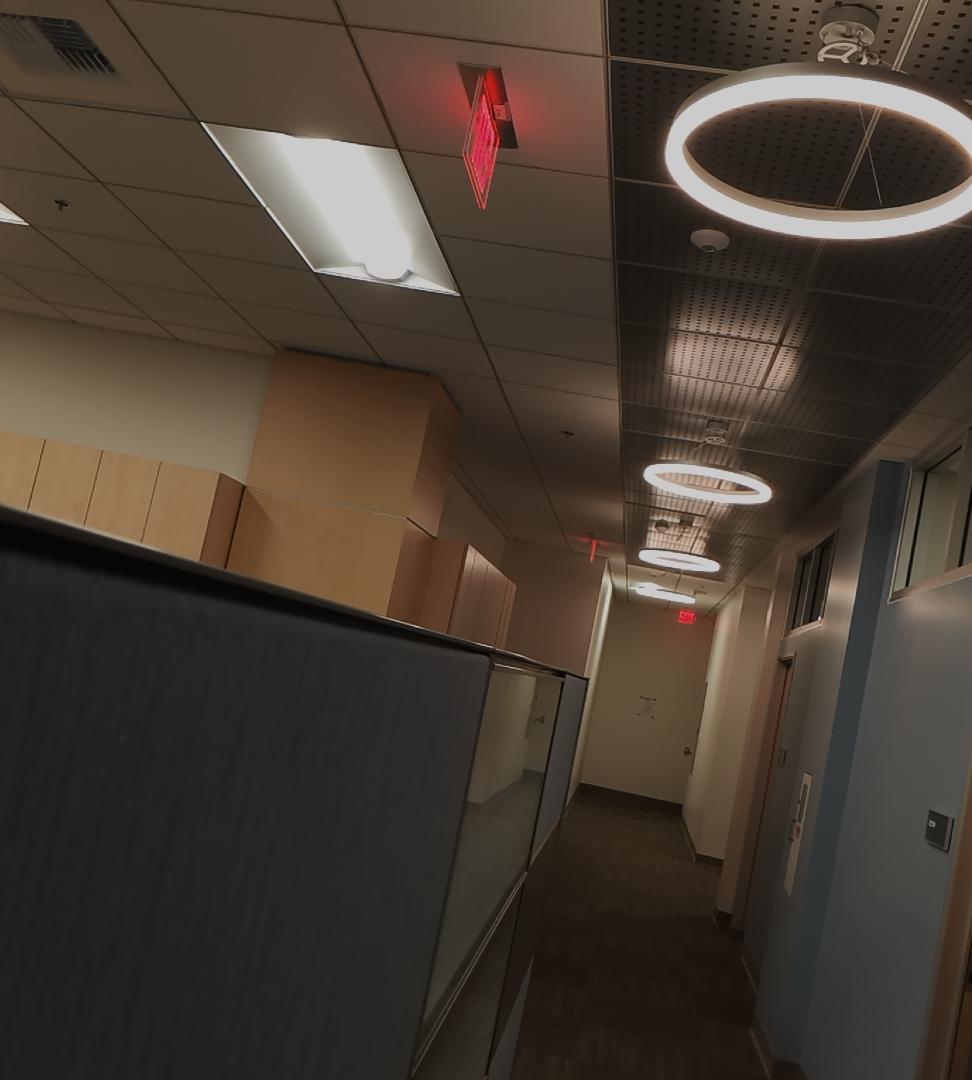emergency_exit: (456, 64, 516, 211)
